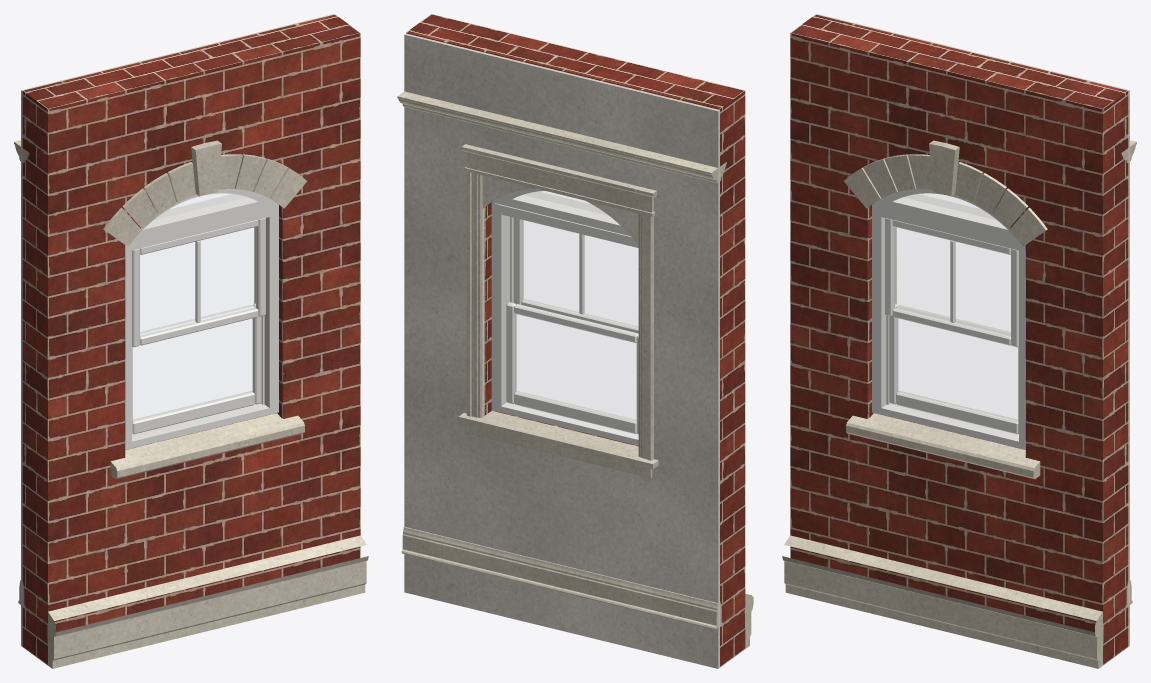
File: s_u1_window.glb
3 views of the same model, side by side, from view 1: azimuth 30°, elevation 25°; view 2: azimuth 150°, elevation 25°; view 3: azimuth 330°, elevation 25° (orthographic).
Visible parts, largest first — view 1: s_u1_window_brick, s_u1_window_trim, s_u1_window_frame, s_u1_window_glass, folha_glass, s_u1_window_sash, folha_sash, s_u1_window_plaster; view 2: s_u1_window_plaster, molduras, s_u1_window_brick, folha_glass, s_u1_window_frame, s_u1_window_glass, folha_sash, s_u1_window_sash; view 3: s_u1_window_brick, s_u1_window_trim, s_u1_window_frame, s_u1_window_glass, folha_glass, s_u1_window_sash, folha_sash, s_u1_window_plaster.
Boxes of the visible parts, left/top/right/bottom form: s_u1_window_brick: left=22, top=14, right=360, bottom=665; s_u1_window_trim: left=48, top=140, right=368, bottom=668; s_u1_window_frame: left=125, top=189, right=278, bottom=449; s_u1_window_glass: left=140, top=194, right=256, bottom=335; folha_glass: left=133, top=319, right=253, bottom=420; s_u1_window_sash: left=132, top=218, right=265, bottom=347; folha_sash: left=132, top=303, right=261, bottom=434; s_u1_window_plaster: left=21, top=14, right=333, bottom=646; s_u1_window_plaster: left=404, top=33, right=719, bottom=668; molduras: left=397, top=91, right=726, bottom=629; s_u1_window_brick: left=406, top=14, right=745, bottom=667; folha_glass: left=515, top=314, right=635, bottom=420; s_u1_window_frame: left=491, top=189, right=638, bottom=445; s_u1_window_glass: left=523, top=191, right=637, bottom=326; folha_sash: left=506, top=302, right=638, bottom=434; s_u1_window_sash: left=513, top=218, right=638, bottom=333; s_u1_window_brick: left=790, top=14, right=1128, bottom=665; s_u1_window_trim: left=782, top=140, right=1102, bottom=668; s_u1_window_frame: left=872, top=189, right=1025, bottom=449; s_u1_window_glass: left=894, top=194, right=1010, bottom=335; folha_glass: left=897, top=319, right=1017, bottom=420; s_u1_window_sash: left=885, top=218, right=1018, bottom=347; folha_sash: left=889, top=303, right=1018, bottom=434; s_u1_window_plaster: left=817, top=14, right=1129, bottom=646.
Size of the model in its own units: 2 by 3.4 by 0.465.
7 materials, 4 textured.
